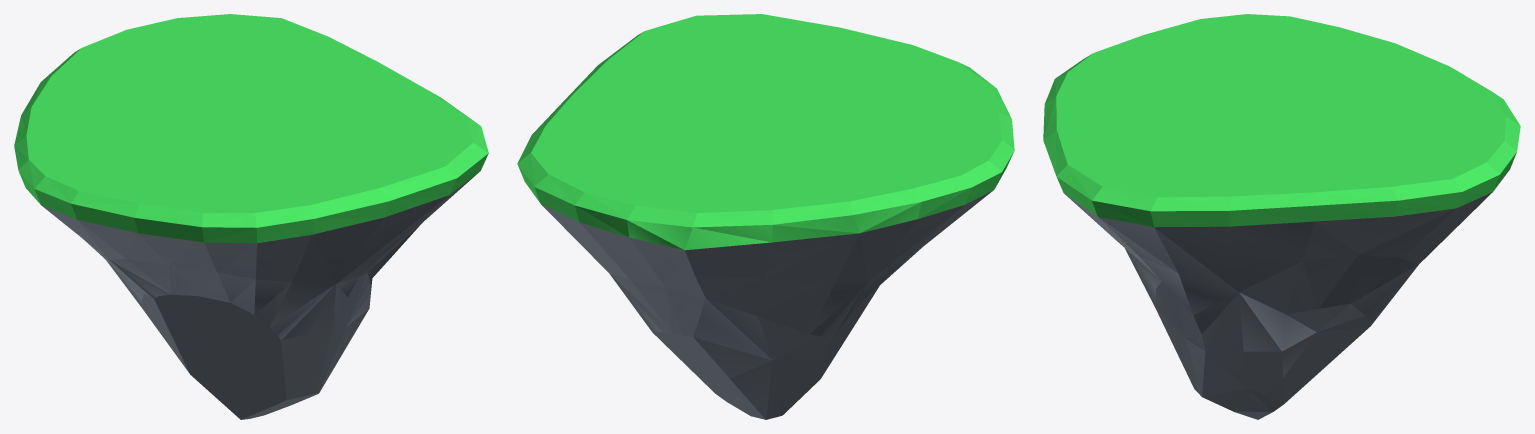
The model's file is testmodelsisland_Cube__3_.fbx.
3 renders of one model, left to right at view 1: azimuth 30°, elevation 25°; view 2: azimuth 150°, elevation 25°; view 3: azimuth 270°, elevation 25°, orthographic. The views are drawn at different scales.
Parts seen in each view (by area): view 1: island_Cube__3_; view 2: island_Cube__3_; view 3: island_Cube__3_.
Part boxes in pixels (bbox=[...]): island_Cube__3_: bbox=[14, 14, 488, 419]; island_Cube__3_: bbox=[517, 14, 1014, 419]; island_Cube__3_: bbox=[1043, 14, 1520, 419].
Size of the model in its own units: 3053 by 2175 by 3171.
